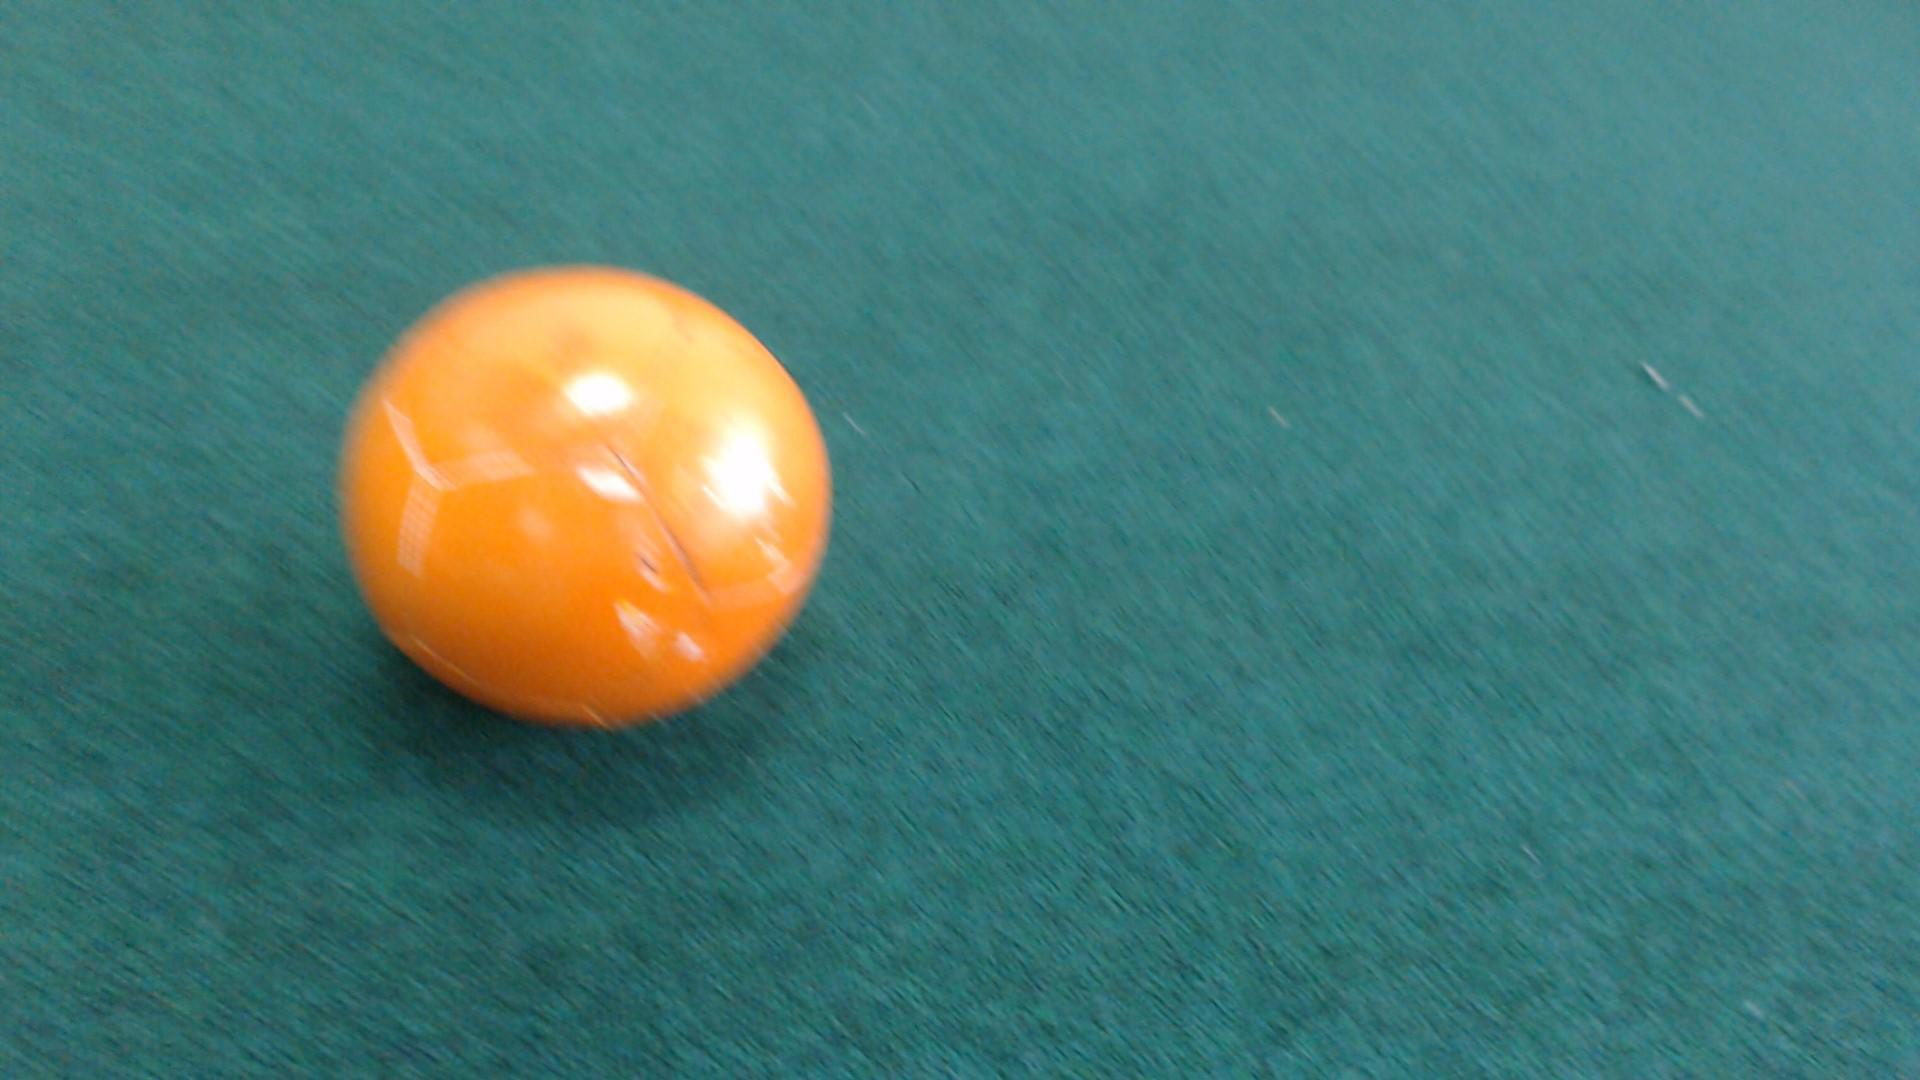bola: (318, 232, 861, 773)
